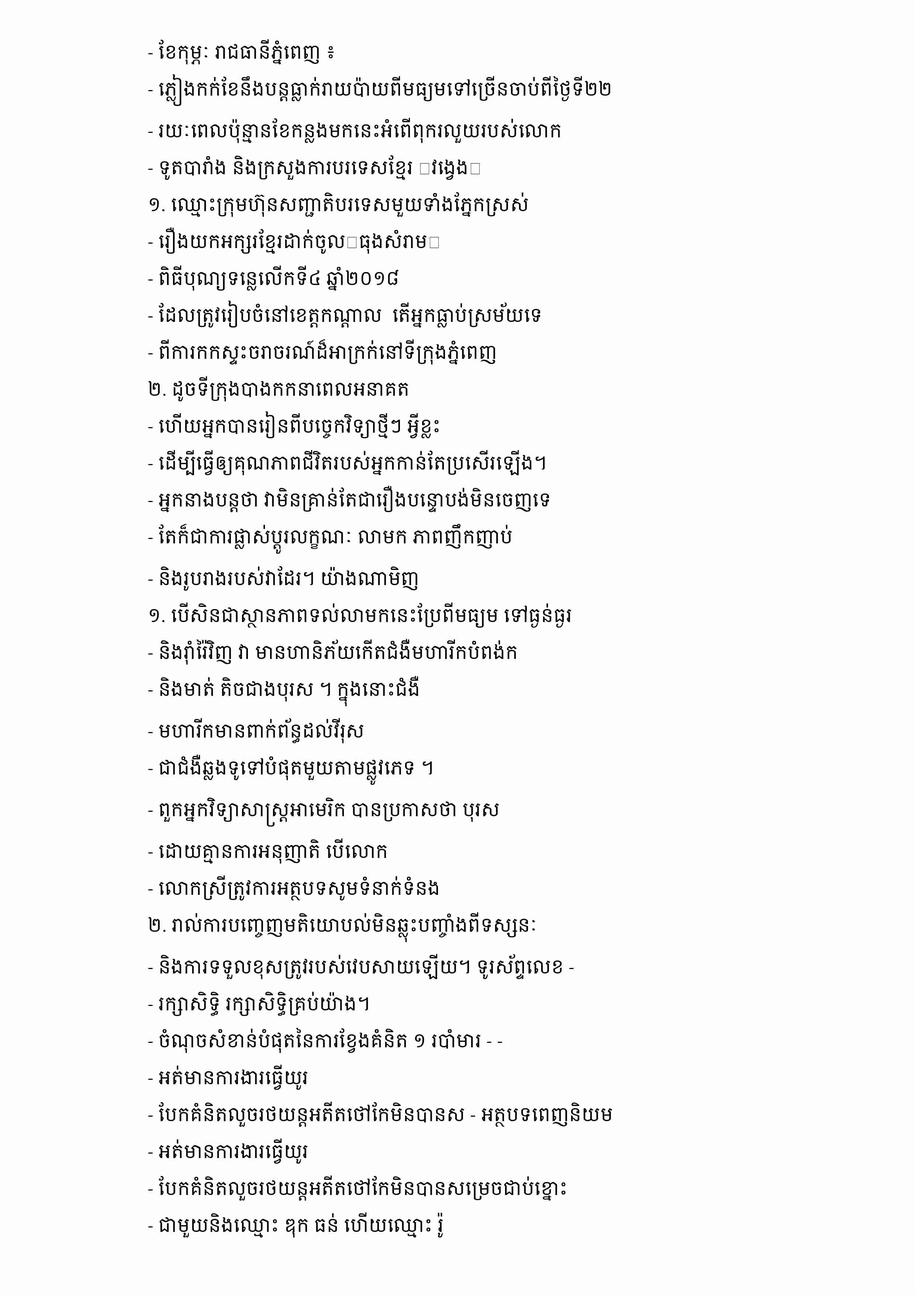text: (148, 74, 617, 106), (148, 912, 543, 942), (148, 1102, 618, 1127), (148, 300, 548, 328), (148, 602, 577, 628), (148, 524, 518, 554), (148, 1175, 572, 1201), (148, 485, 556, 512), (148, 954, 579, 979), (148, 797, 505, 827), (148, 118, 567, 143), (148, 450, 552, 475), (148, 639, 523, 665), (148, 192, 534, 217), (148, 339, 502, 365), (148, 1028, 508, 1053), (148, 755, 439, 785), (148, 676, 425, 707), (148, 155, 487, 180), (148, 411, 445, 439), (148, 227, 446, 254), (148, 1212, 449, 1238), (148, 875, 445, 901), (148, 376, 414, 402), (148, 566, 424, 591), (148, 265, 404, 291), (148, 838, 393, 864), (148, 718, 369, 743), (148, 992, 375, 1016), (148, 39, 341, 65), (148, 1138, 313, 1164), (148, 1065, 313, 1090)
